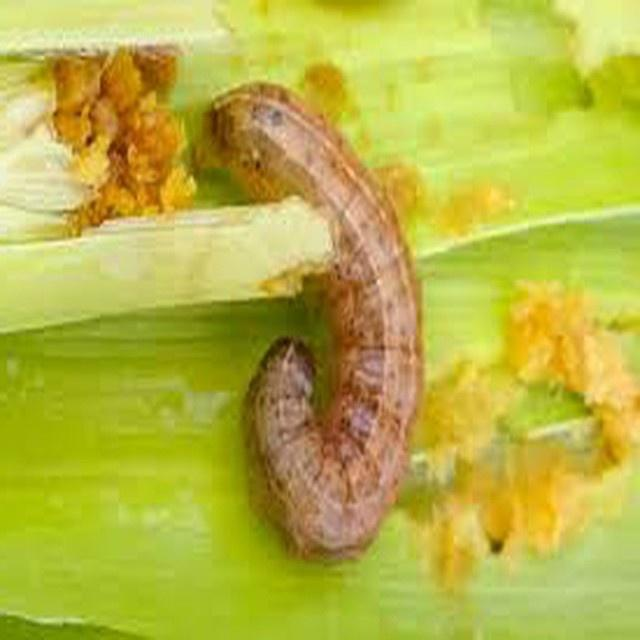gusano_cogollero: (212, 79, 418, 562)
